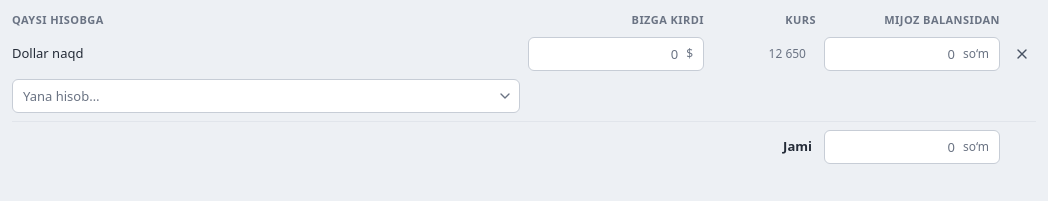
Scenario: the ready lines › warn, before anything is sent, of a sum further from the rate than anyone may agree to
Type "100" into the 1st field with placeholder "0" at (606, 54), box [529, 38, 682, 70]
Then press Tab
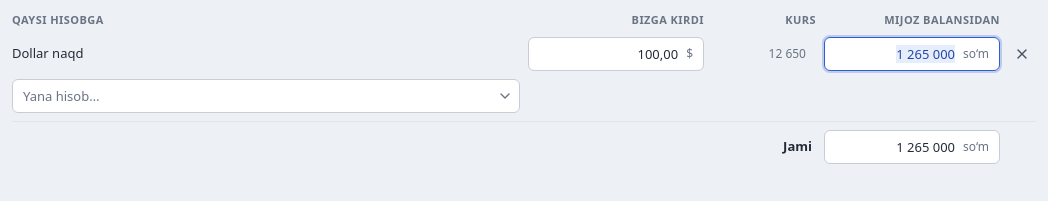
Replace the text in the 2nd field with "1400000" at (892, 54), box [825, 38, 959, 70]
Then press Tab
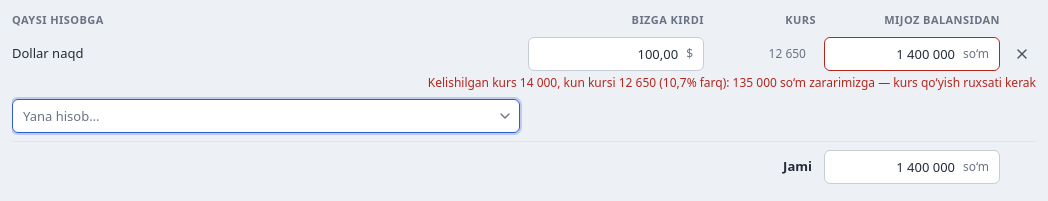
Now the text "Kelishilgan kurs 14 000, kun kursi 12 650 (10,7% farq): 135 000 so‘m zararimizga — kurs qo‘yish ruxsati kerak" is shown, box [428, 74, 1036, 90]
